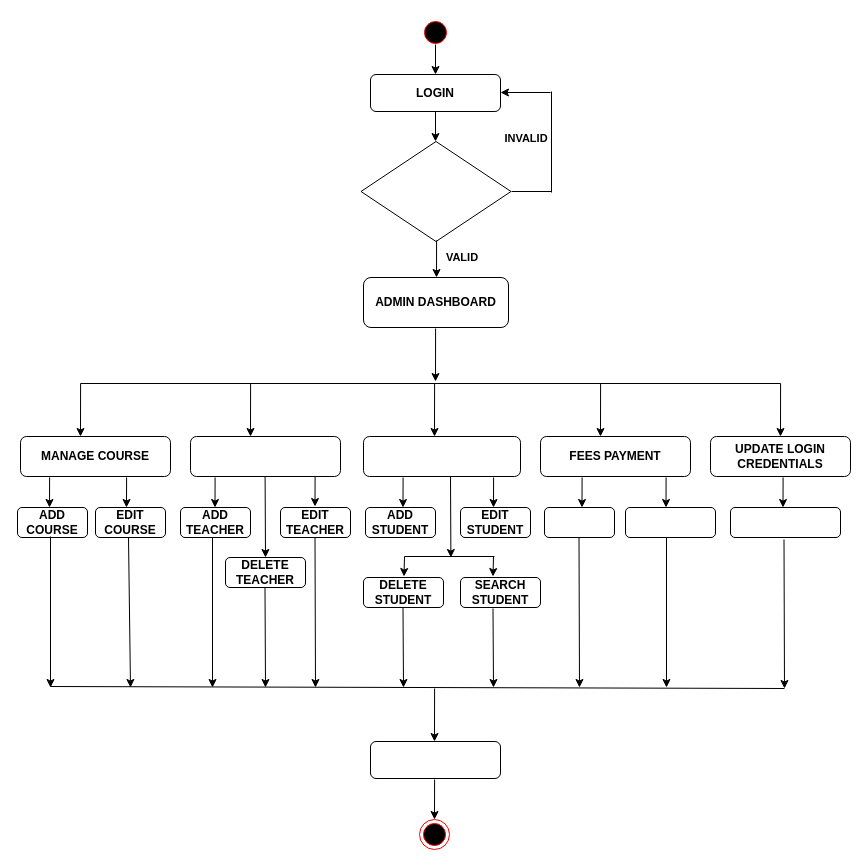
Some shapes in this 868 by 867 pixel diagram are drawn without their labels. The shapes that lost their labels are listed below. From the top down, each one's centre as x and y in pixels, then its label:
the point at 435,191: AUTHENTICATION
the point at 265,456: MANAGE TEACHER
the point at 441,456: MANAGE STUDENT
the point at 579,522: DEPOSITE FEES
the point at 670,522: FEES PENDING LIST
the point at 785,522: CHANGE USERID & PASSWORD
the point at 435,759: LOGOUT
